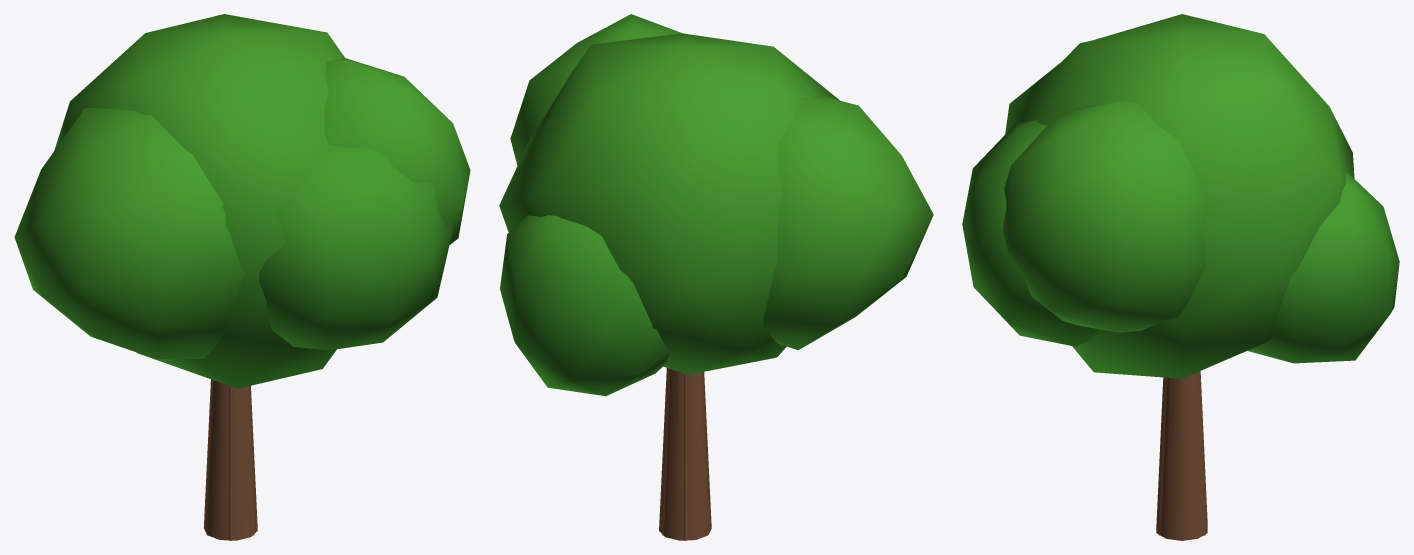
The model's file is baum_rund.glb.
The picture shows the model from 3 angles, left to right: view 1: azimuth 30°, elevation 25°; view 2: azimuth 150°, elevation 25°; view 3: azimuth 270°, elevation 25°; orthographic projection. The views are drawn at different scales.
Parts seen in each view (by area): view 1: baum_rund_0_leaves, baum_rund_0_trunk, baum_rund_1_trunk; view 2: baum_rund_0_leaves, baum_rund_0_trunk, baum_rund_1_trunk; view 3: baum_rund_0_leaves, baum_rund_0_trunk, baum_rund_1_trunk.
Part boxes in pixels (bbox=[...]): baum_rund_0_leaves: bbox=[14, 14, 470, 388]; baum_rund_0_trunk: bbox=[203, 379, 257, 540]; baum_rund_1_trunk: bbox=[228, 386, 254, 540]; baum_rund_0_leaves: bbox=[499, 14, 933, 396]; baum_rund_0_trunk: bbox=[659, 368, 711, 540]; baum_rund_1_trunk: bbox=[662, 368, 687, 540]; baum_rund_0_leaves: bbox=[962, 14, 1399, 378]; baum_rund_0_trunk: bbox=[1156, 371, 1207, 540]; baum_rund_1_trunk: bbox=[1158, 372, 1205, 535].
Size of the model in its own units: 4.75 by 5.61 by 4.53.
